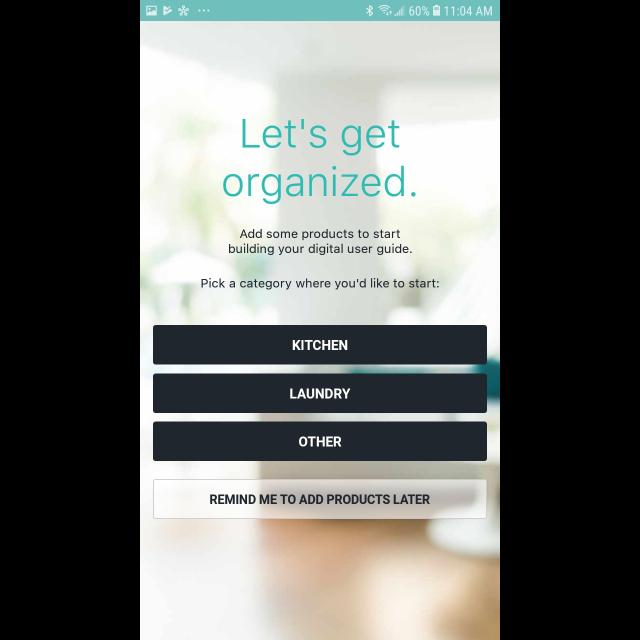backgroundimage: (140, 22, 500, 640)
text: (224, 119, 416, 205), (228, 228, 412, 256), (202, 278, 438, 290)
textbutton: (153, 479, 487, 519), (153, 422, 487, 462), (153, 374, 487, 414), (153, 325, 487, 365)
uppertaskbar: (140, 1, 500, 22)
